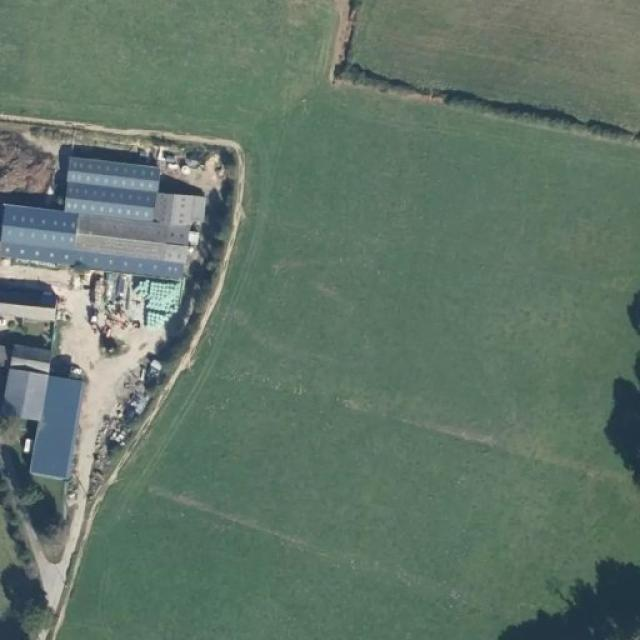ferme: (2, 198, 190, 280), (3, 357, 89, 484), (41, 150, 160, 218), (18, 333, 55, 373)
